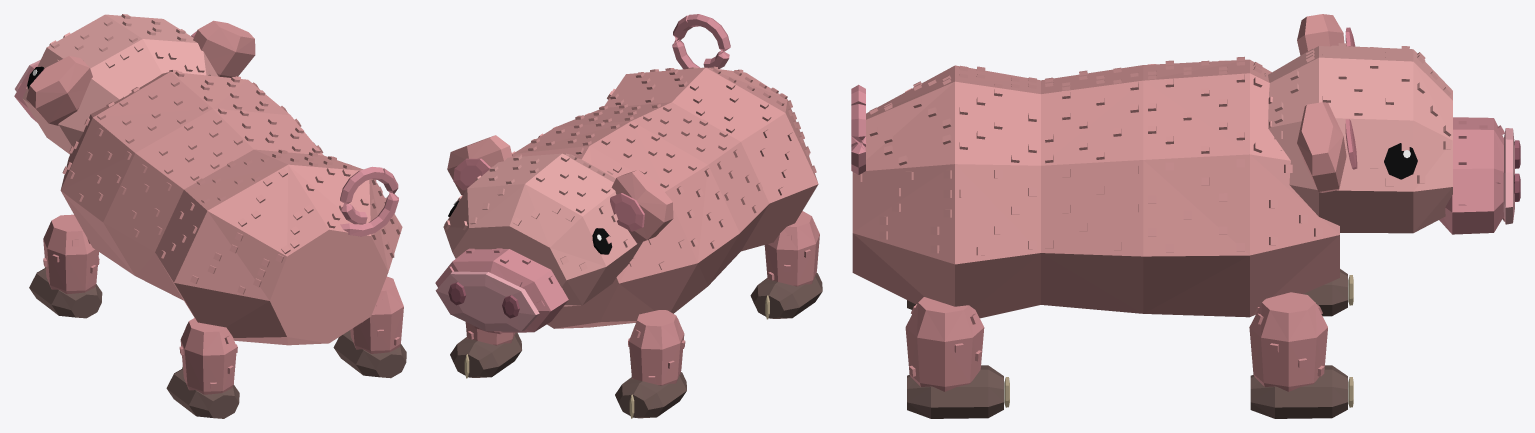
File: Pig.fbx
The picture shows the model from 3 angles, left to right: view 1: azimuth 30°, elevation 25°; view 2: azimuth 150°, elevation 25°; view 3: azimuth 270°, elevation 25°; orthographic projection. The views are drawn at different scales.
Parts seen in each view (by area): view 1: Import3D_Core, Import3D_Head, Import3D_LegBL, Import3D_LegBR, Import3D_LegFL, Import3D_EarL, Import3D_EarR, Import3D_LegFLFoot, Import3D_Tail, Import3D_TailTip; view 2: Import3D_Core, Import3D_Head, Import3D_LegBL, Import3D_BigSnout, Import3D_SnoutFace, Import3D_LegFL, Import3D_EarL, Import3D_EarR, Import3D_LegFLFoot, Import3D_LegFRFoot, Import3D_TailTip, Import3D_LegFR (+2 smaller); view 3: Import3D_Core, Import3D_Head, Import3D_LegBR, Import3D_LegFR, Import3D_BigSnout, Import3D_EarR, Import3D_LegFRFoot, Import3D_EarL, Import3D_LegFLFoot, Import3D_SnoutFace, Import3D_Tail, Import3D_EyeR.
Boxes of the visible parts, <box> form: Import3D_Core: <box>60,70,402,345</box>; Import3D_Head: <box>22,14,218,154</box>; Import3D_LegBL: <box>166,318,239,418</box>; Import3D_LegBR: <box>333,276,406,378</box>; Import3D_LegFL: <box>43,214,99,294</box>; Import3D_EarL: <box>26,56,92,125</box>; Import3D_EarR: <box>191,20,255,77</box>; Import3D_LegFLFoot: <box>29,268,102,318</box>; Import3D_Tail: <box>340,168,398,236</box>; Import3D_TailTip: <box>340,166,384,224</box>; Import3D_Core: <box>512,66,818,328</box>; Import3D_Head: <box>443,153,642,334</box>; Import3D_LegBL: <box>750,211,822,319</box>; Import3D_BigSnout: <box>435,248,568,332</box>; Import3D_SnoutFace: <box>435,271,539,331</box>; Import3D_LegFL: <box>628,310,685,418</box>; Import3D_EarL: <box>610,170,673,243</box>; Import3D_EarR: <box>447,135,512,195</box>; Import3D_LegFLFoot: <box>615,372,686,418</box>; Import3D_LegFRFoot: <box>450,332,521,377</box>; Import3D_TailTip: <box>687,14,730,68</box>; Import3D_LegFR: <box>464,322,515,378</box>; Import3D_Core: <box>852,56,1339,318</box>; Import3D_Head: <box>1264,43,1520,233</box>; Import3D_LegBR: <box>905,297,1009,418</box>; Import3D_LegFR: <box>1249,292,1353,407</box>; Import3D_BigSnout: <box>1439,117,1504,234</box>; Import3D_EarR: <box>1297,102,1357,192</box>; Import3D_LegFRFoot: <box>1250,365,1347,418</box>; Import3D_EarL: <box>1297,14,1355,55</box>; Import3D_LegFLFoot: <box>1303,269,1347,316</box>; Import3D_SnoutFace: <box>1503,128,1514,224</box>; Import3D_Tail: <box>851,104,866,174</box>; Import3D_EyeR: <box>1384,143,1417,179</box>.
Bounding box in the file's own units: 126 × 129 × 255.
1 material, 1 textured.
